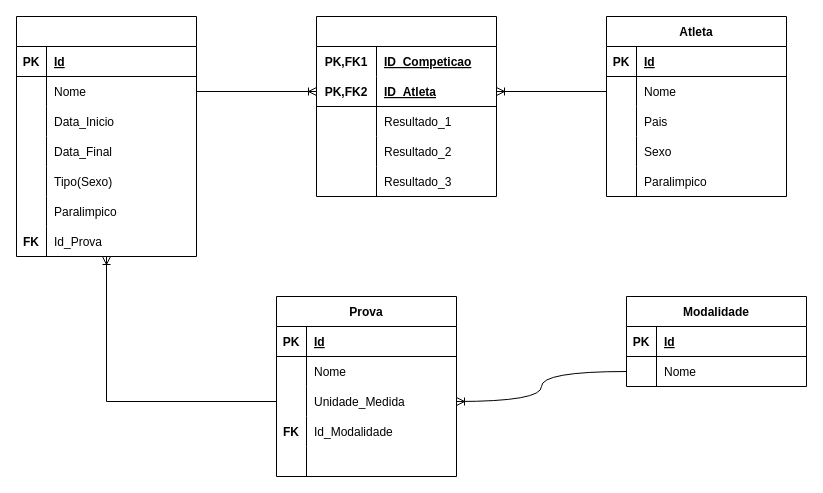
The diagram is 823 pixels wide and 493 high, and some of its shapes have lost their labels. Here are the shapes that lost their labels. From the top down, the box of each, then its label:
(316, 16, 496, 196): Competicao_Atleta
(16, 16, 196, 256): Competicao
